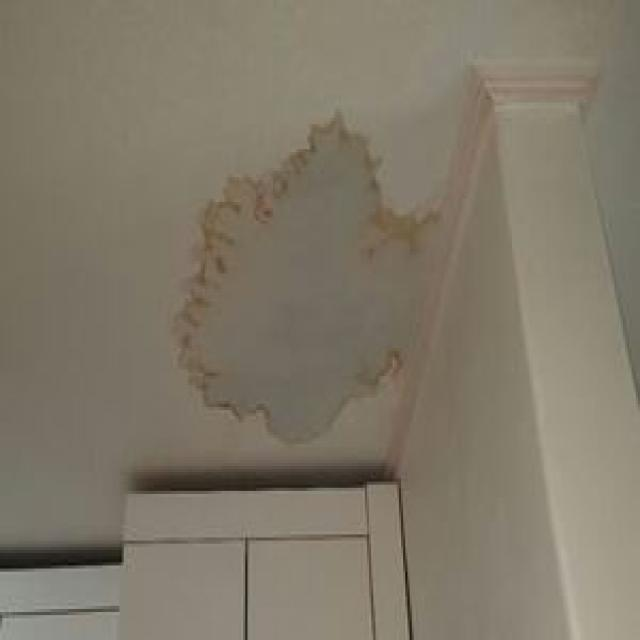leak: (179, 115, 429, 438)
